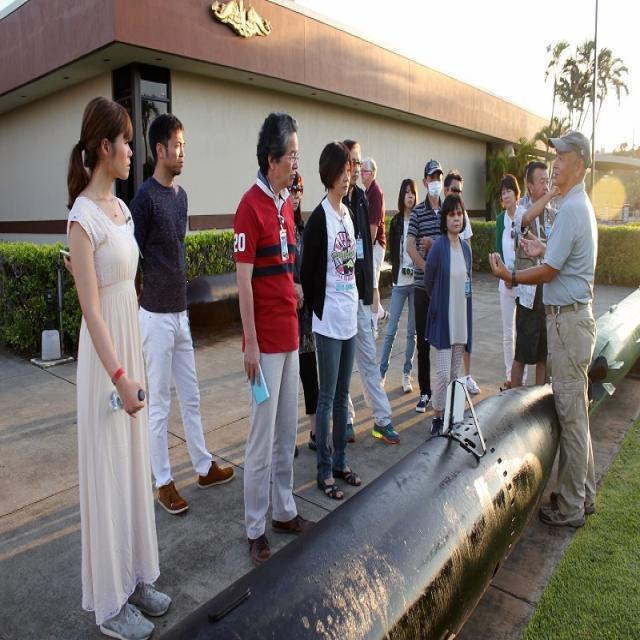body: (61, 87, 176, 638), (487, 128, 600, 530), (128, 110, 236, 516), (231, 107, 320, 569), (298, 138, 362, 502), (340, 137, 402, 445), (286, 169, 332, 460), (422, 192, 475, 436), (509, 160, 562, 391), (406, 158, 444, 414), (442, 168, 482, 396), (379, 176, 418, 394), (495, 173, 529, 394), (360, 155, 390, 342), (520, 162, 530, 205)
